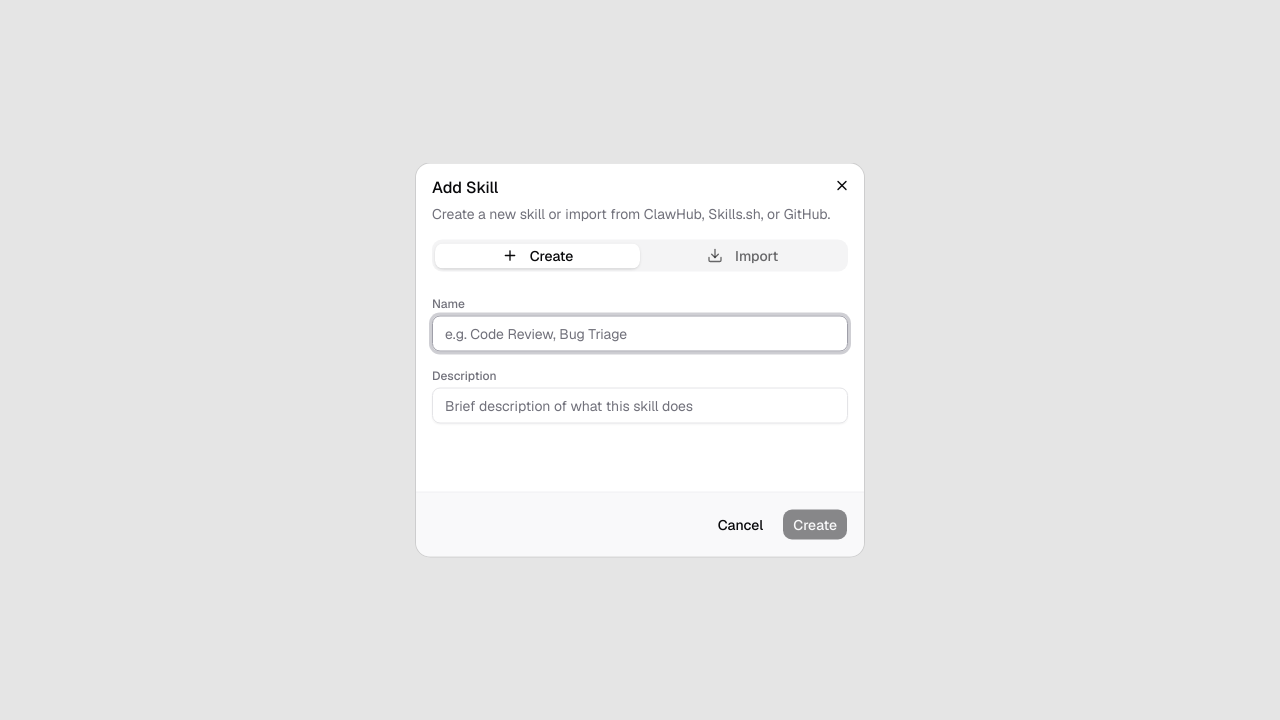
Test case: CreateSkillDialog › shows GitHub loading copy for GitHub imports
This screenshot has width=1280, height=720.
Click the tab "Import" at (742, 256), box x1=640 y1=243 x2=845 y2=268
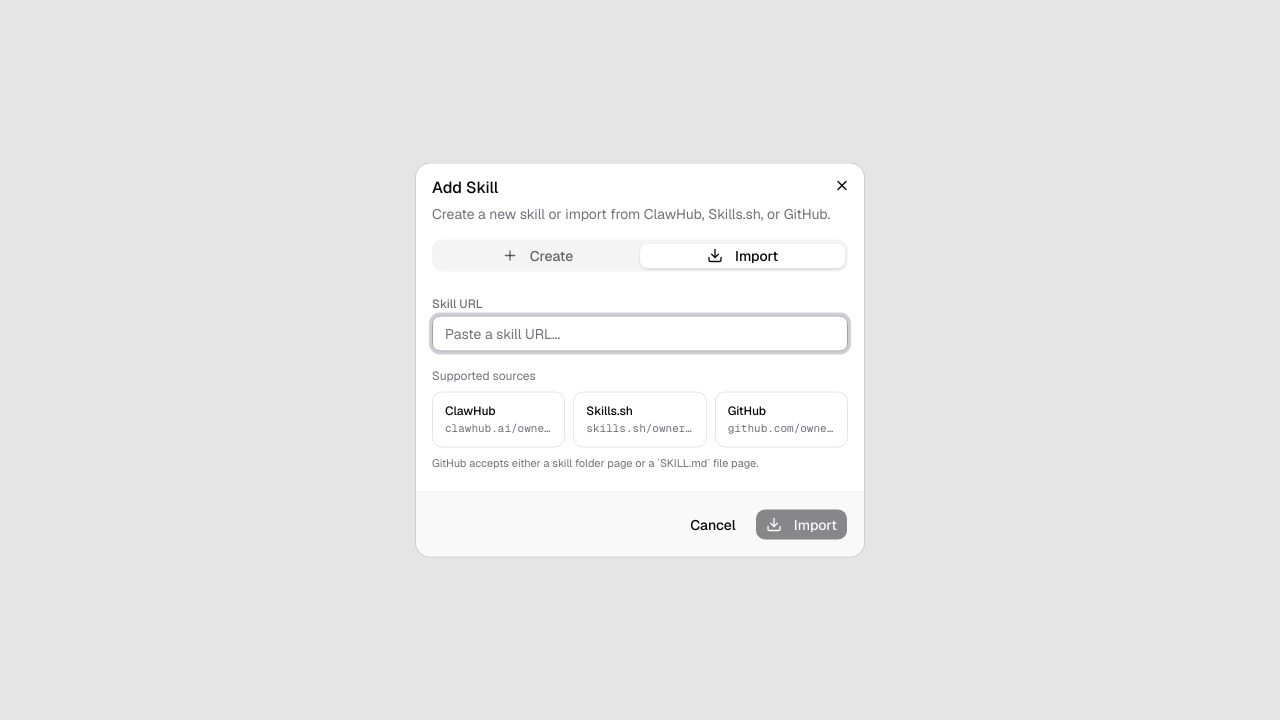
Type "https://github.com/acme/skills-repo/tree/main/skills/code-review" into the field with placeholder "Paste a skill URL..." at (640, 334), box x1=432 y1=316 x2=848 y2=352
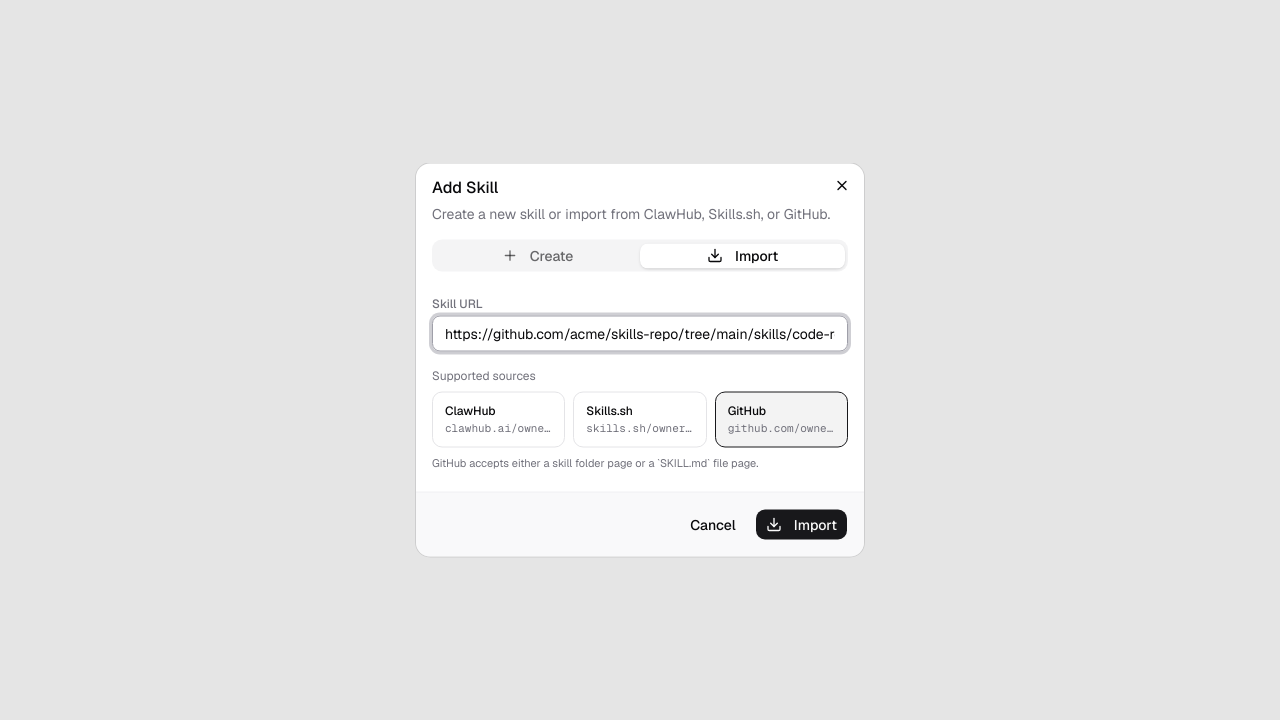
Result: the text "GitHub" is shown at x1=728 y1=402 x2=766 y2=418
Result: the text "GitHub accepts either a skill folder page or a `SKILL.md` file page." is shown at x1=432 y1=455 x2=758 y2=469
Click the button "Import" at (801, 524), box x1=755 y1=508 x2=848 y2=540
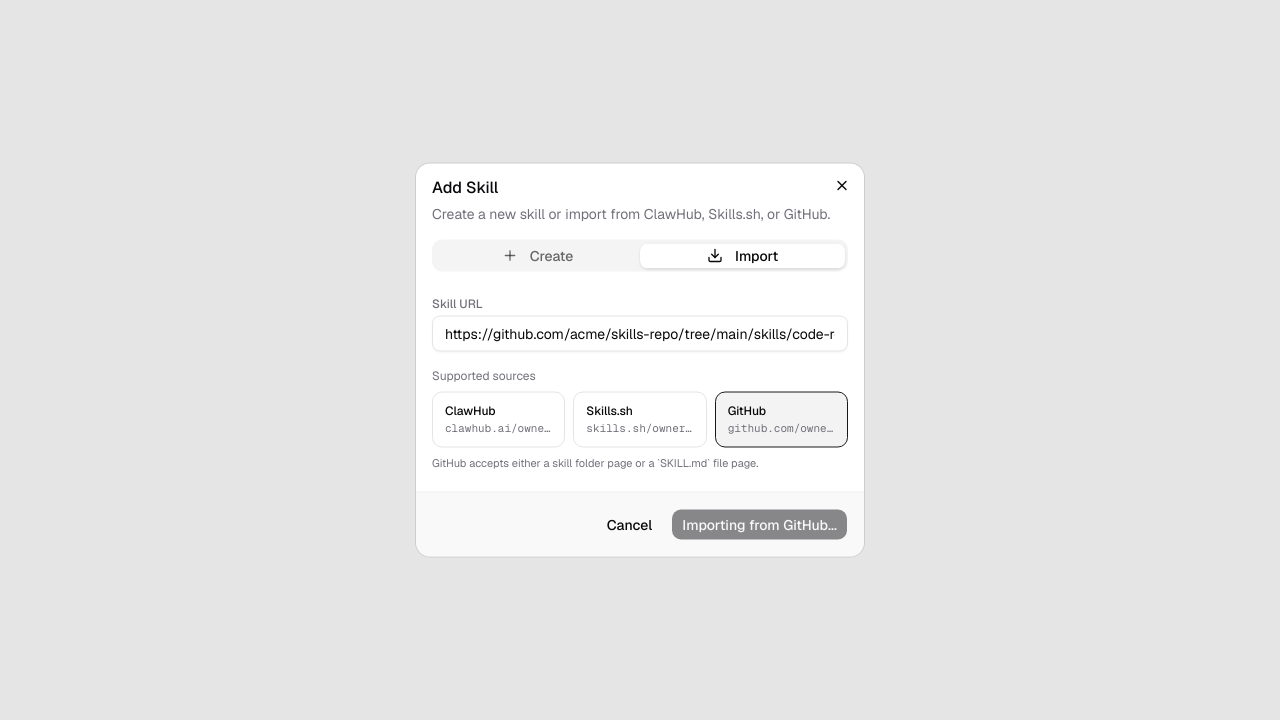
Result: the button "Importing from GitHub..." is shown at x1=671 y1=508 x2=848 y2=540
